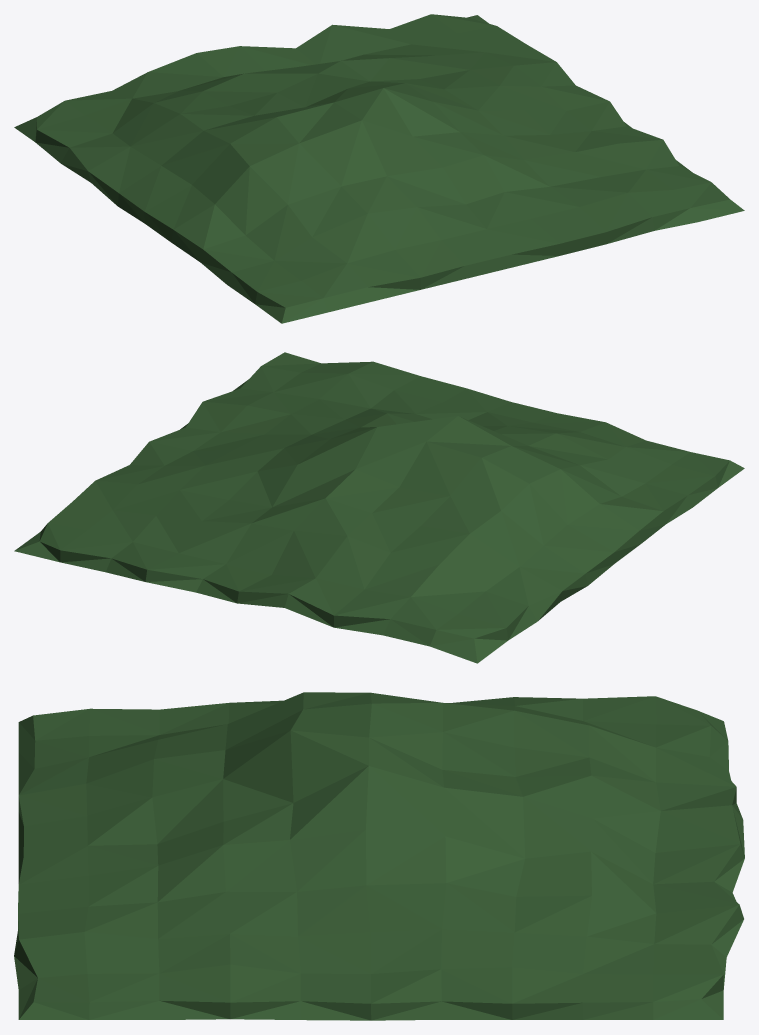
File: rough_test_terrain.glb
3 renders of one model, top to bottom at view 1: azimuth 30°, elevation 25°; view 2: azimuth 150°, elevation 25°; view 3: azimuth 270°, elevation 25°, orthographic. The views are drawn at different scales.
Visible parts, largest first — view 1: Cube -col; view 2: Cube -col; view 3: Cube -col.
Boxes of the visible parts, left/top/right/bottom form: Cube -col: left=14, top=14, right=744, bottom=323; Cube -col: left=14, top=352, right=744, bottom=663; Cube -col: left=14, top=692, right=744, bottom=1020.
Size of the model in its own units: 81.32 by 13.73 by 82.94.
